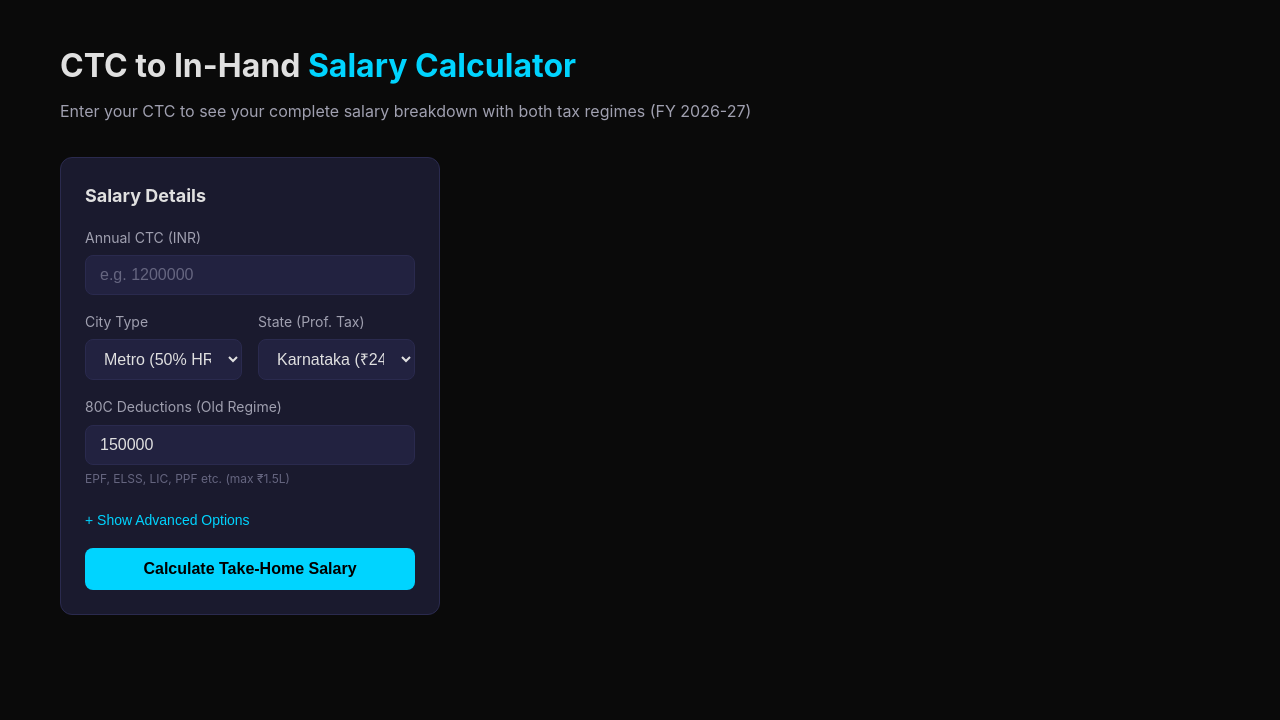
it: CalculatorPage › shows both regime take-home amounts
Step 1. Type "1500000" into the number field labelled "Annual CTC (INR)" → [250, 275], box [85, 255, 415, 295]
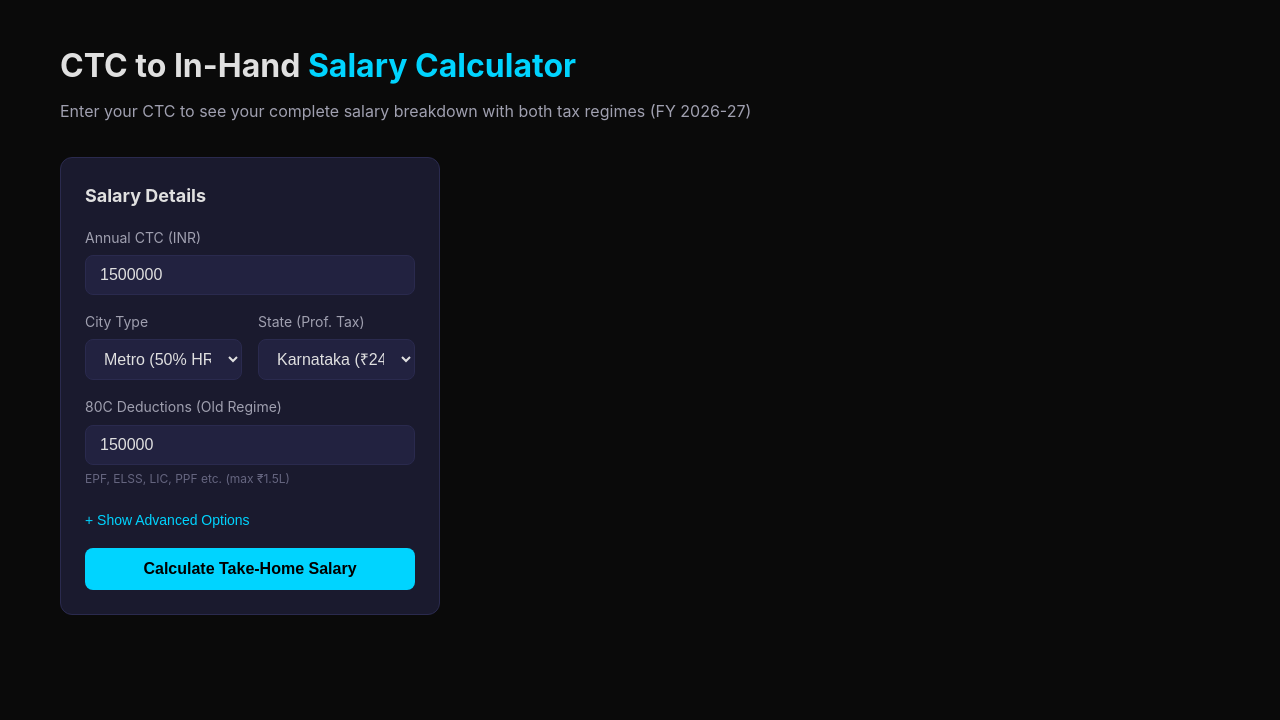
Step 2. Click the button "Calculate Take-Home Salary" → [250, 569], box [85, 548, 415, 590]
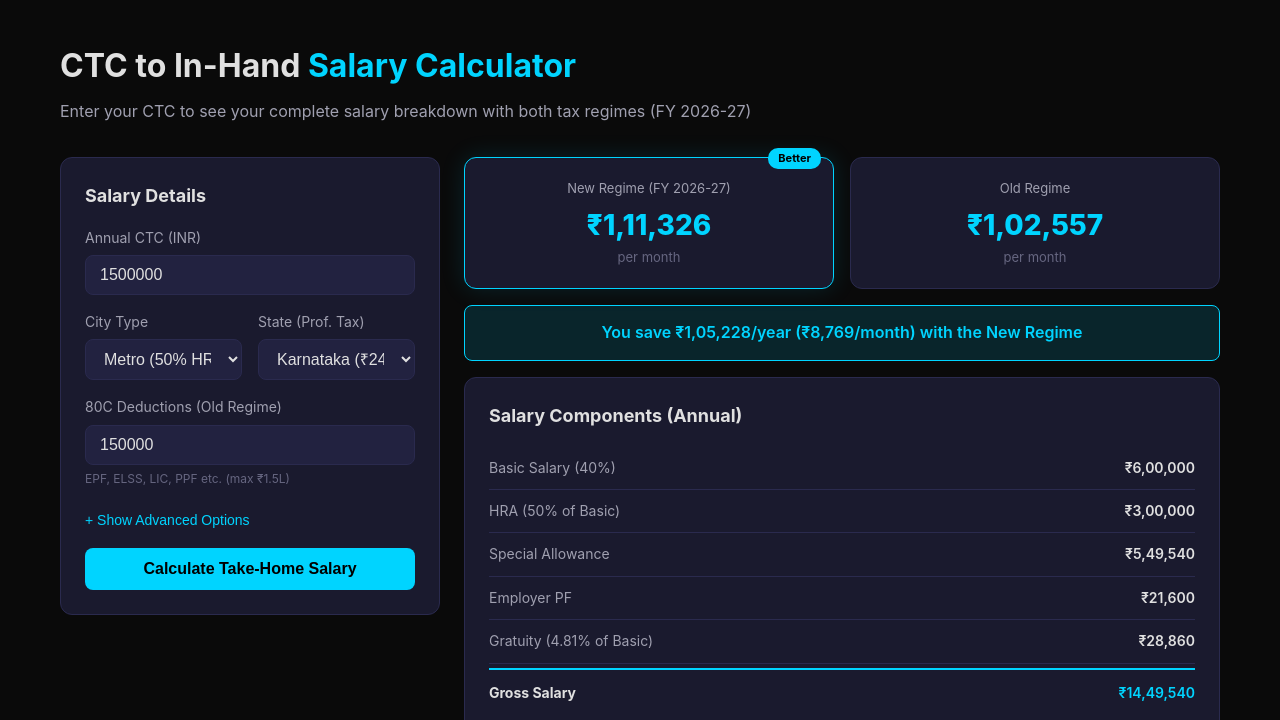
Now the text "New Regime (FY 2026-27)" is shown, box [567, 180, 731, 196]
Now the text "Old Regime" is shown, box [1000, 180, 1070, 196]
